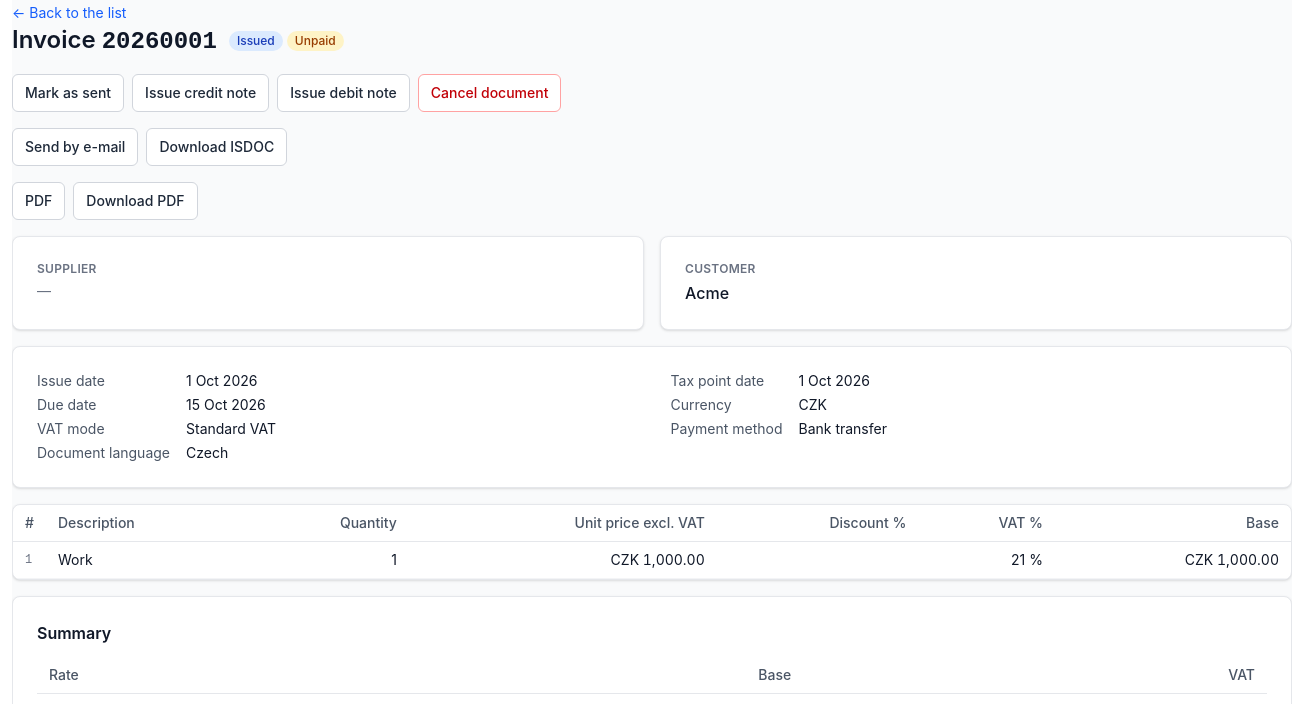
Test: InvoiceDetailView › cancels with a reason from the prompt
Click the button with test id "cancel": (490, 93) x1=418 y1=74 x2=562 y2=112
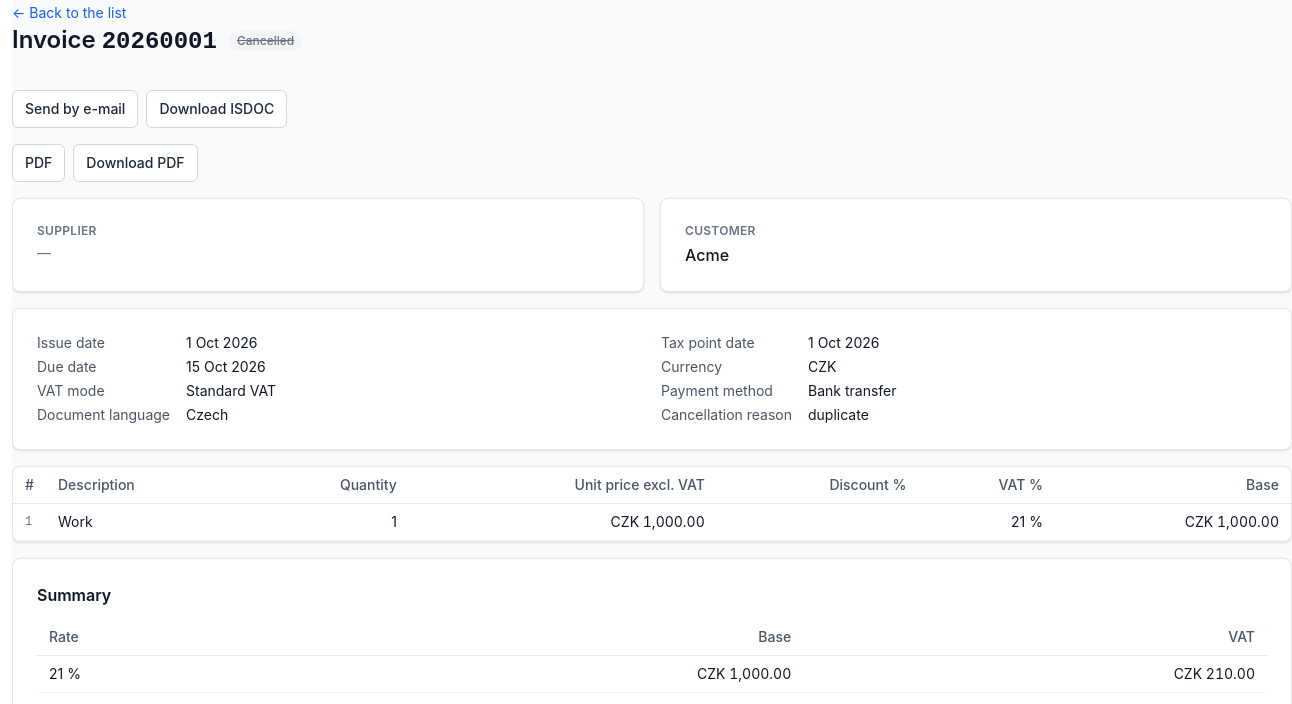
Check: the text with test id "status-badge" reads "Cancelled", box x1=237 y1=33 x2=294 y2=48
